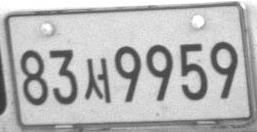3: (50, 48, 79, 106)
5: (179, 43, 208, 101)
8: (19, 48, 49, 106)
9: (209, 40, 239, 100), (113, 45, 142, 102), (145, 44, 174, 101)
서: (82, 57, 112, 104)
